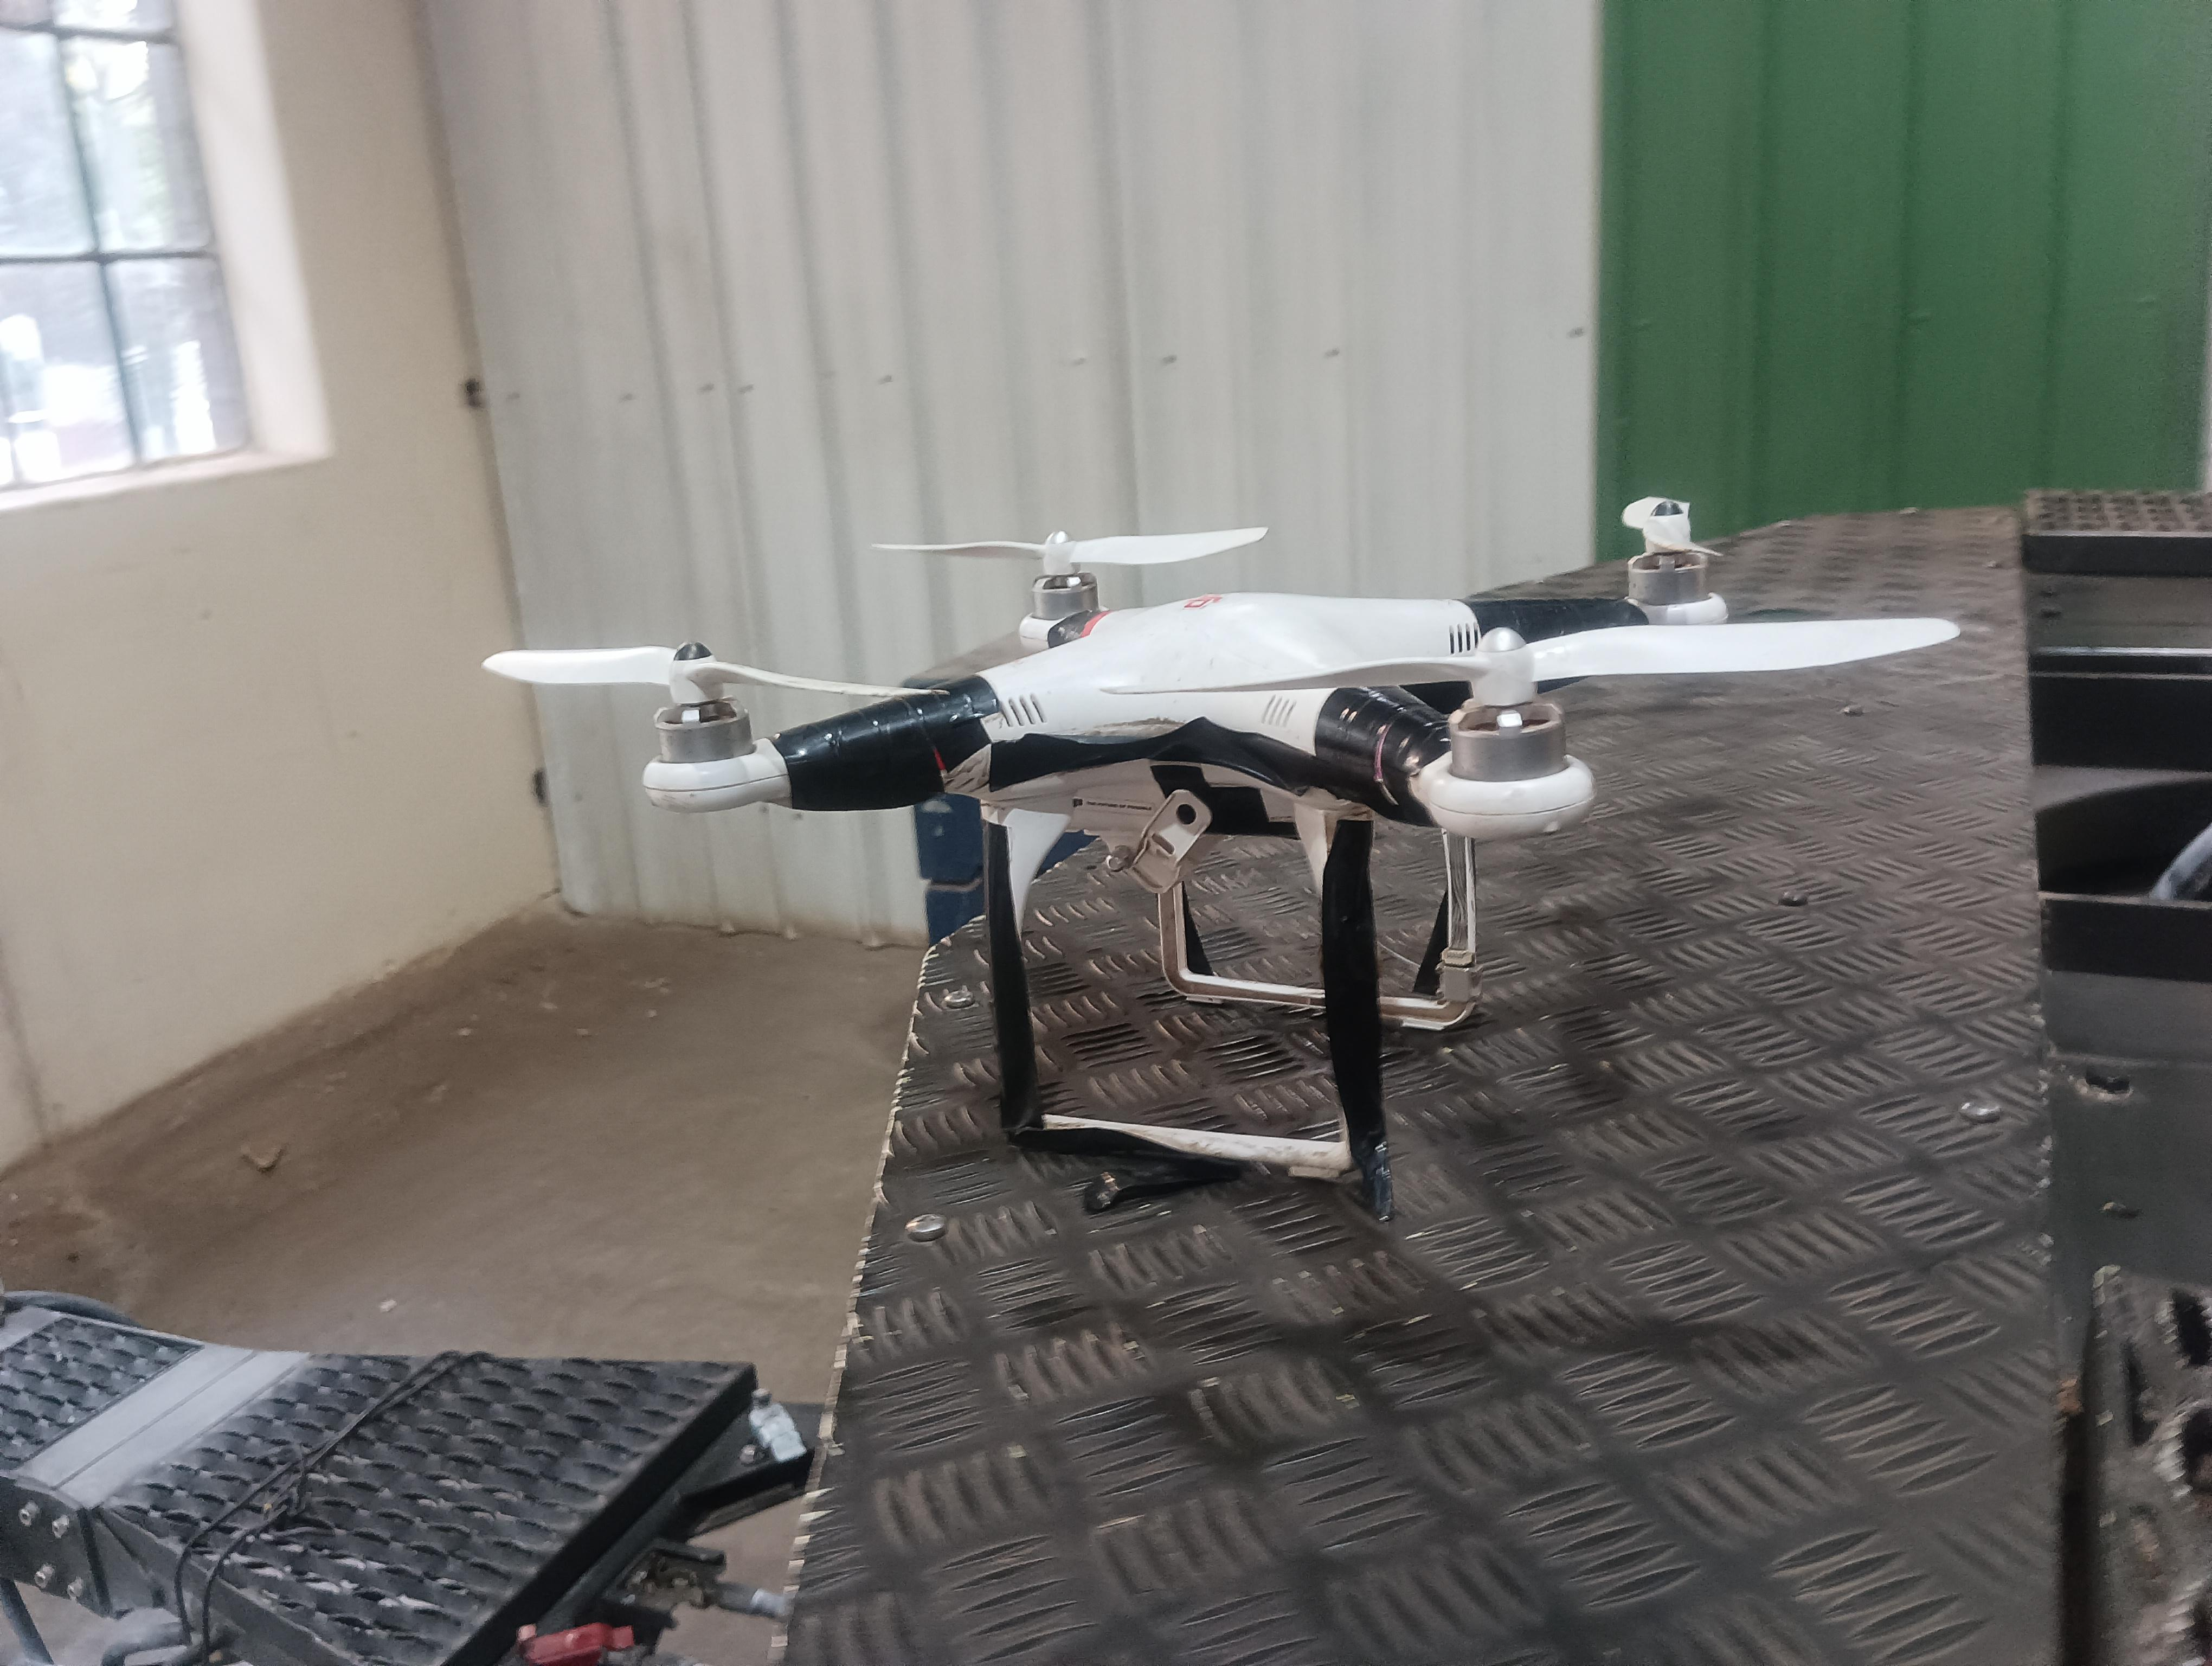drone: (446, 424, 2002, 1290)
